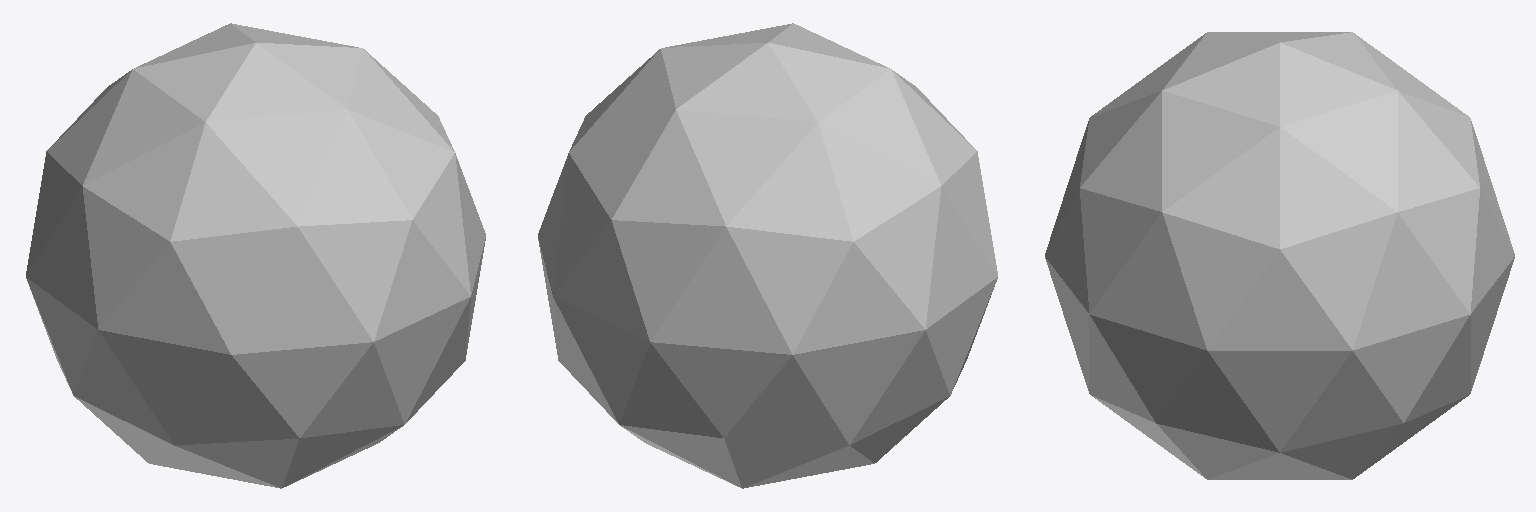
Rendered from light.obj.
The picture shows the model from 3 angles: view 1: azimuth 30°, elevation 25°; view 2: azimuth 150°, elevation 25°; view 3: azimuth 270°, elevation 25°; orthographic projection.
Parts seen in each view (by area): view 1: Icosphere; view 2: Icosphere; view 3: Icosphere.
Boxes of the visible parts, <box> form: Icosphere: <box>26,23,485,488</box>; Icosphere: <box>538,23,997,488</box>; Icosphere: <box>1045,32,1514,479</box>.
Bounding box in the file's own units: 0.2222 × 0.2336 × 0.2336.